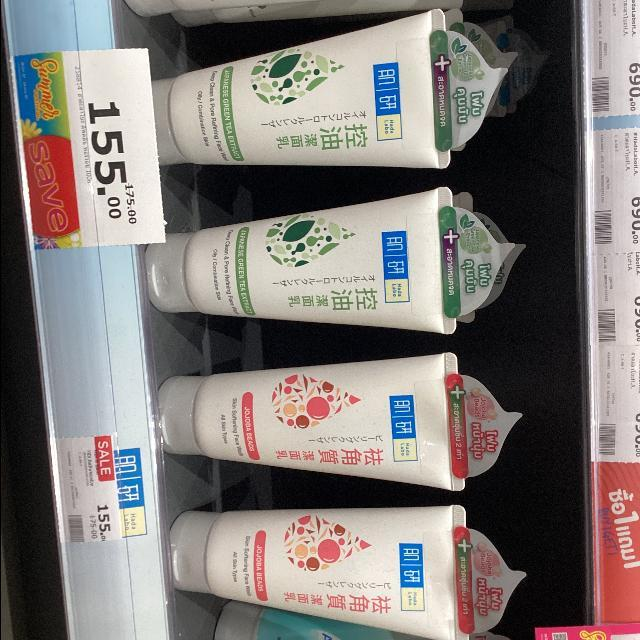Squeeze Tube: (119, 3, 562, 640), (146, 10, 449, 183), (141, 185, 486, 336), (164, 498, 472, 639), (153, 355, 470, 488)
